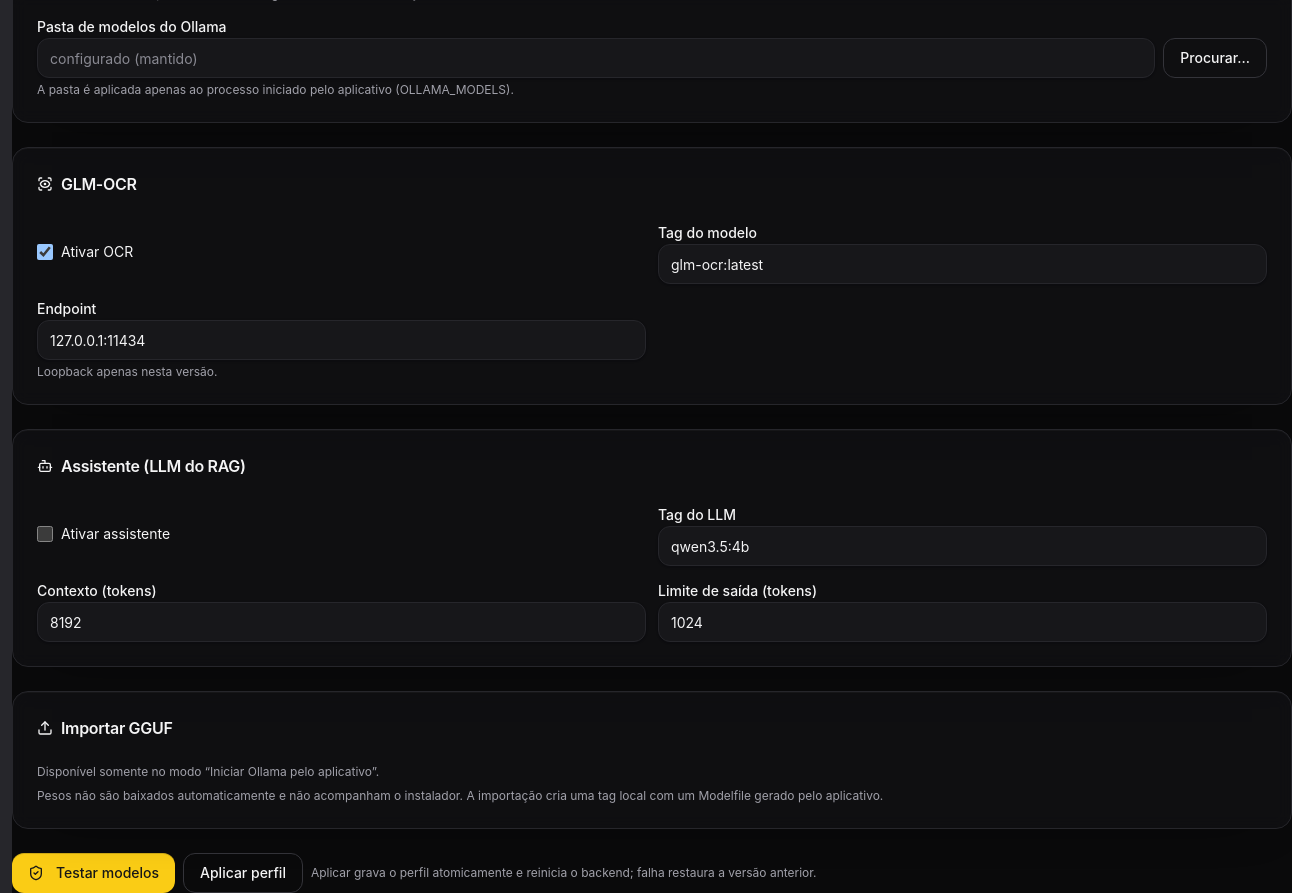
Scenario: LocalModelsPage › shows the diagnostics returned by the desktop bridge
The image size is (1292, 893).
(page scrolled)
Click the button "Testar modelos" at [94, 873], box [12,853,175,892]
(page scrolled)
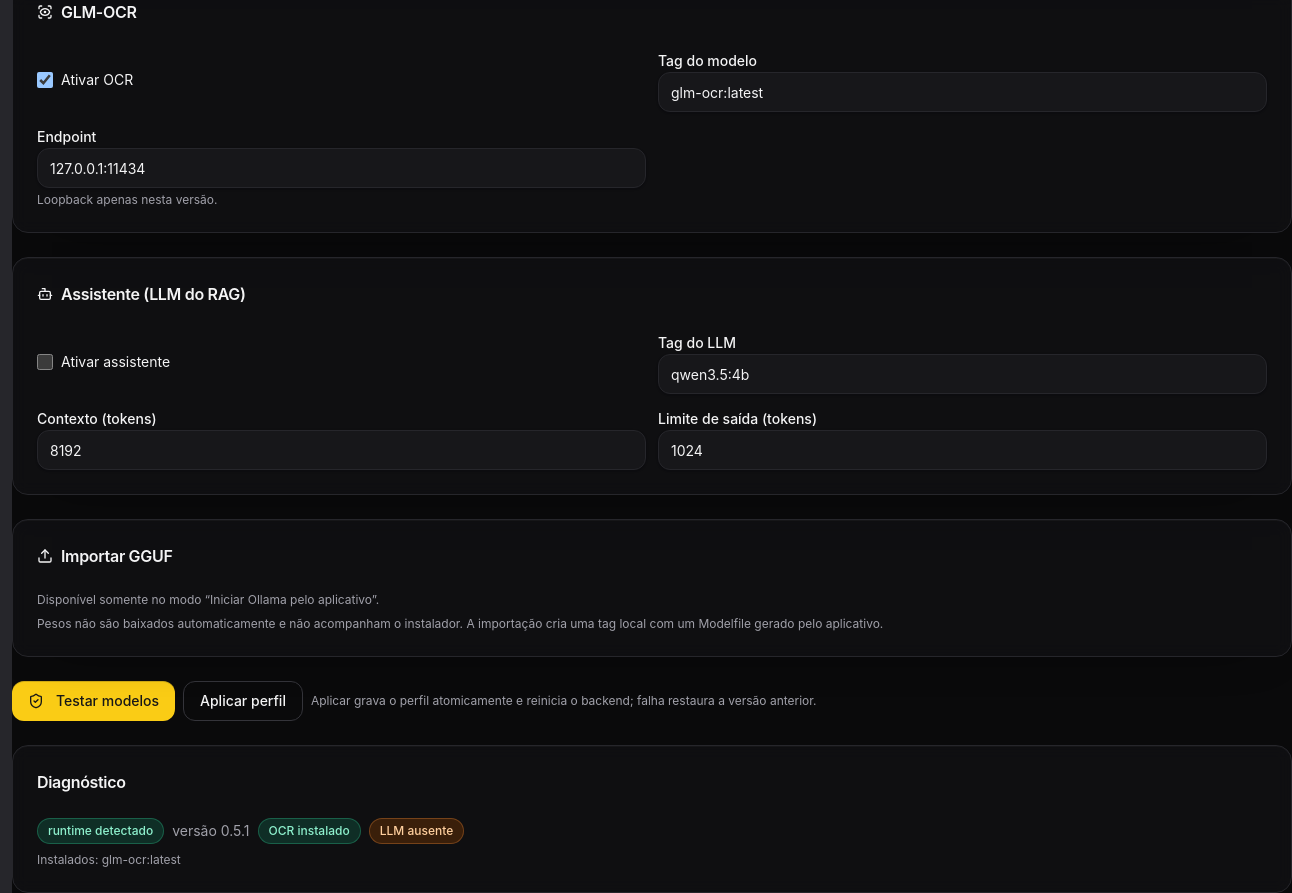
expect the heading "Diagnóstico" is shown: met, box [37,772,126,792]
expect the text "runtime detectado" is shown: met, box [37,818,164,844]
expect the text "versão 0.5.1" is shown: met, box [172,821,250,841]
